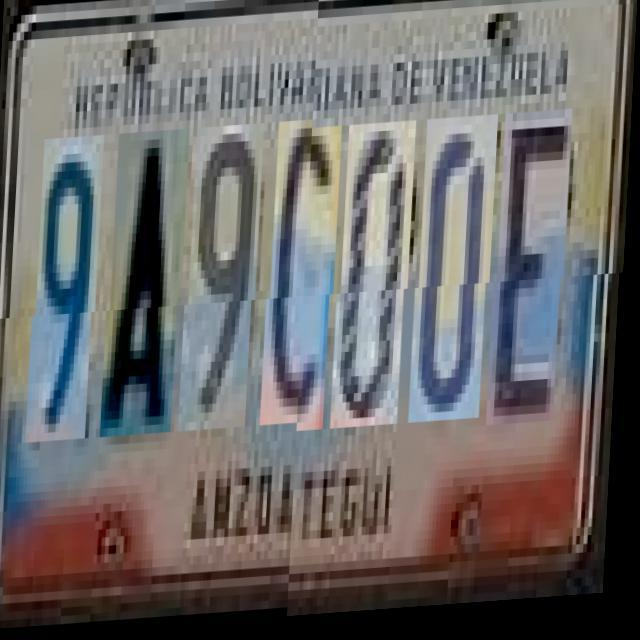0: (416, 122, 499, 429), (338, 127, 418, 434)
9: (186, 136, 265, 442), (34, 145, 106, 451)
A: (108, 140, 191, 447)
C: (268, 131, 344, 438)
E: (494, 118, 574, 433)
